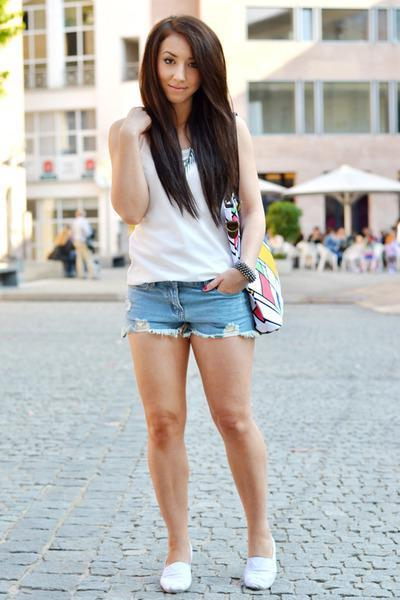Shorts: (115, 267, 255, 344)
vest: (108, 106, 245, 291)
